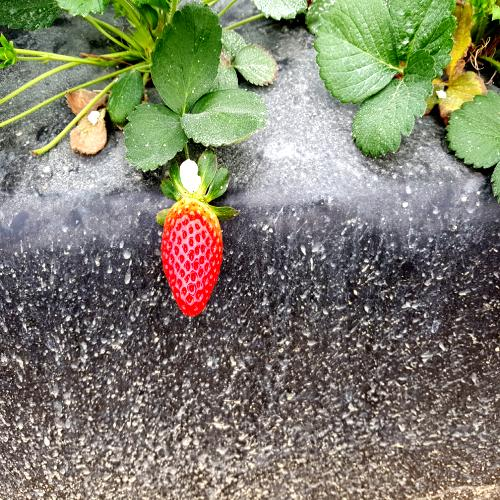ripe: (153, 192, 231, 324)
